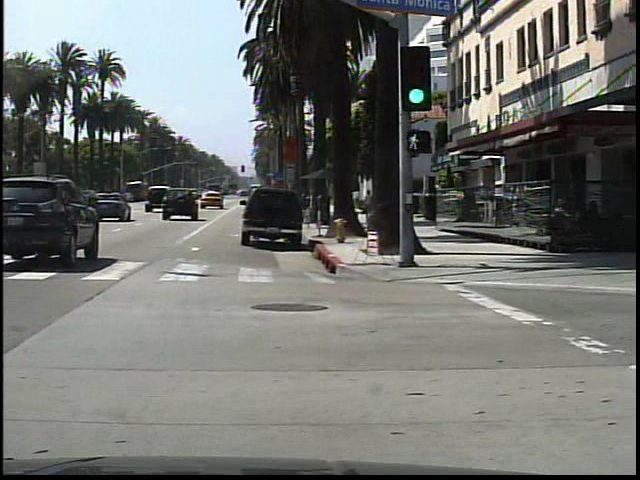person: (364, 184, 377, 226)
